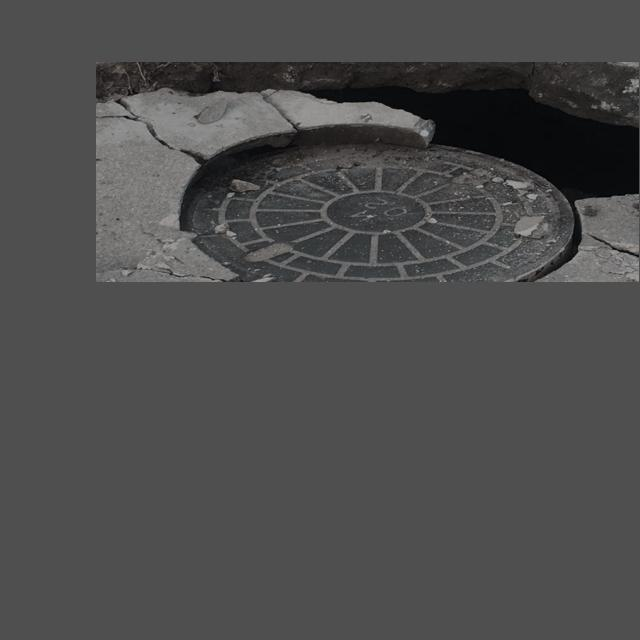circle: (103, 70, 631, 279)
